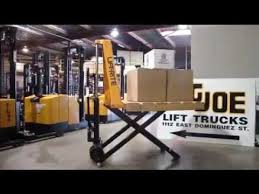Pallet Jack: (24, 46, 84, 135)
Scissor Lift: (86, 38, 206, 168)
